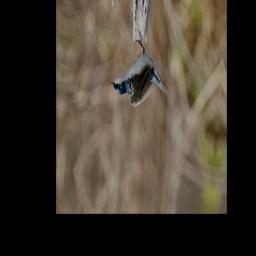Swallow: (109, 31, 178, 120)
